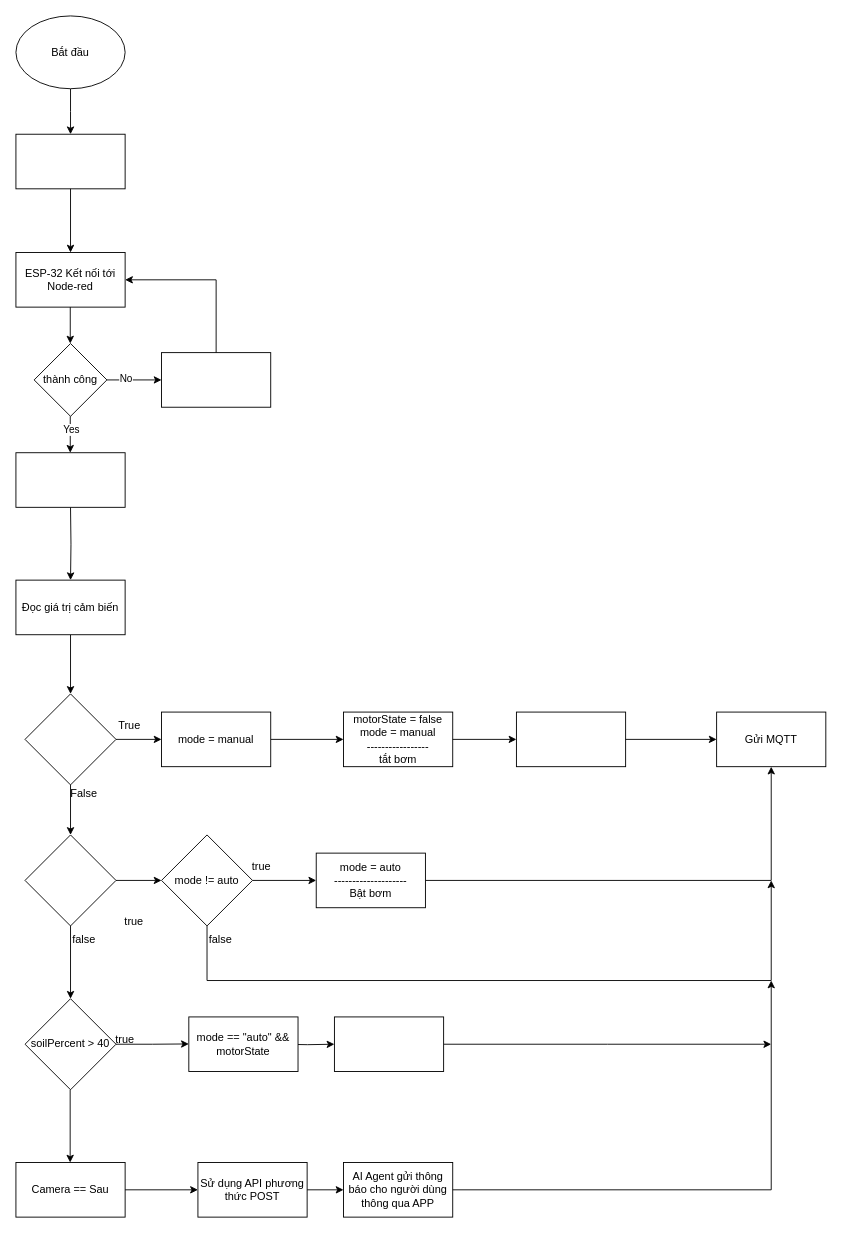
Some shapes in this 842 by 1233 pixel diagram are drawn without their labels. Here are the shapes that lost their labels. From the top down, the centre of each, then its label:
(x=70, y=161): Khởi tạo hệ thống ESP32 oled, cảm biến độ ẩm đất, cảm biến nhiệt độ....
(x=216, y=379): ERROR
(x=70, y=479): Điều khiển và kiểm tra hệ thóng
(x=70, y=739): soilPercent == 0
(x=571, y=739): In Cảnh báo cảm biến lỗi
(x=70, y=880): soilPercent < 40
(x=389, y=1044): motorState = false mode = manual -------------- Tắt bơm
